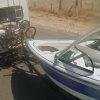Boat: (18, 26, 100, 100)
